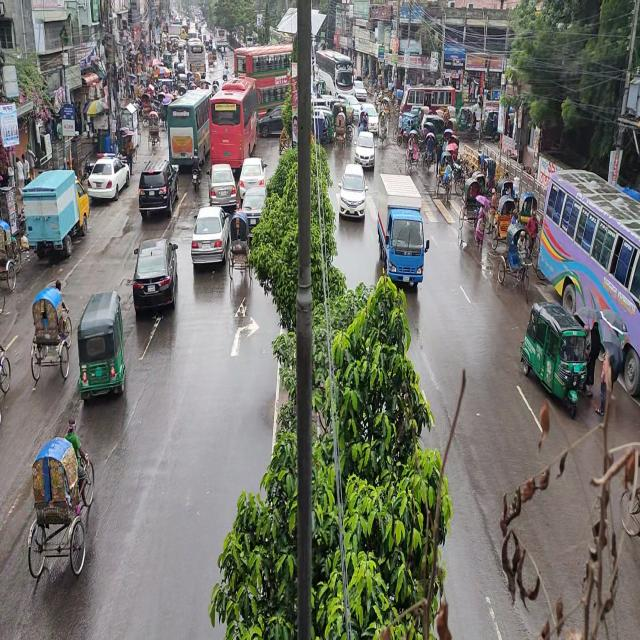black: (133, 240, 178, 314)
silver: (192, 204, 230, 272), (208, 164, 236, 213), (355, 128, 376, 170)
white: (88, 149, 131, 203), (339, 165, 366, 224), (240, 156, 266, 198)
